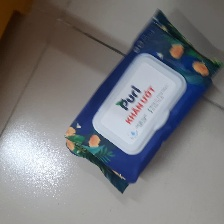Puri Xanh: (63, 8, 224, 194)
